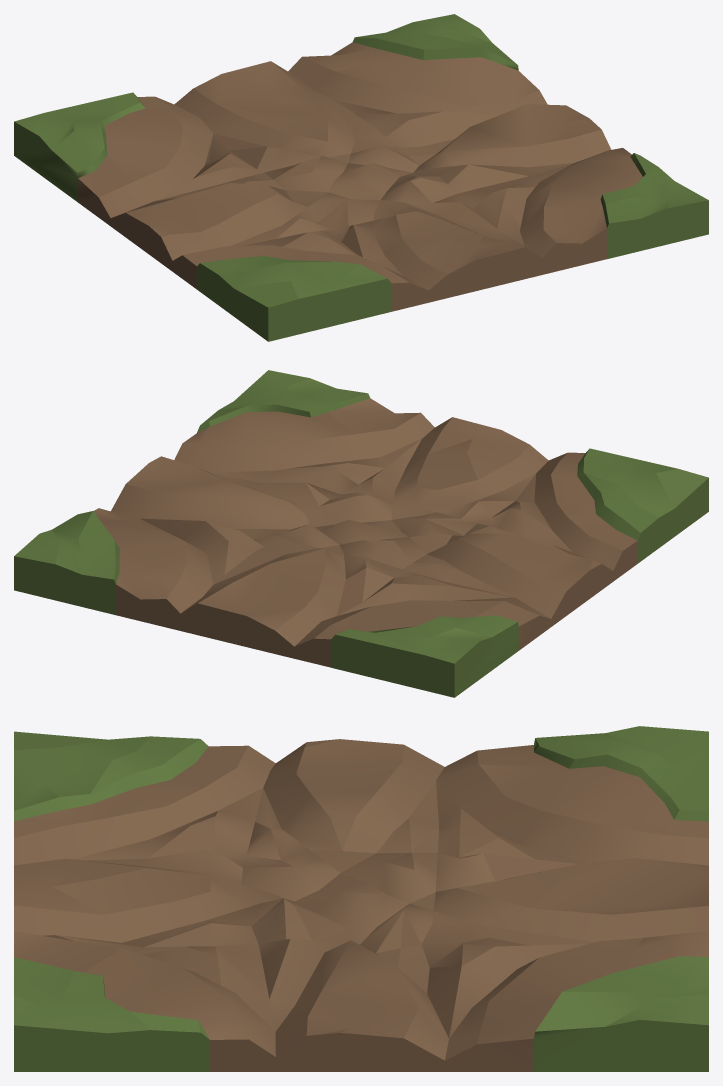
Rendered from Ground_Road_Crossroads.glb.
3 views of the same model, one above another, from view 1: azimuth 30°, elevation 25°; view 2: azimuth 150°, elevation 25°; view 3: azimuth 270°, elevation 25° (orthographic). The views are drawn at different scales.
Parts seen in each view (by area): view 1: Ground_Road_Crossroads; view 2: Ground_Road_Crossroads; view 3: Ground_Road_Crossroads.
Boxes of the visible parts, x1,y1,x2,y2 form: Ground_Road_Crossroads: (14, 14, 708, 341); Ground_Road_Crossroads: (14, 370, 708, 697); Ground_Road_Crossroads: (14, 726, 708, 1071).
Bounding box in the file's own units: 1.47 × 0.1477 × 1.47.
